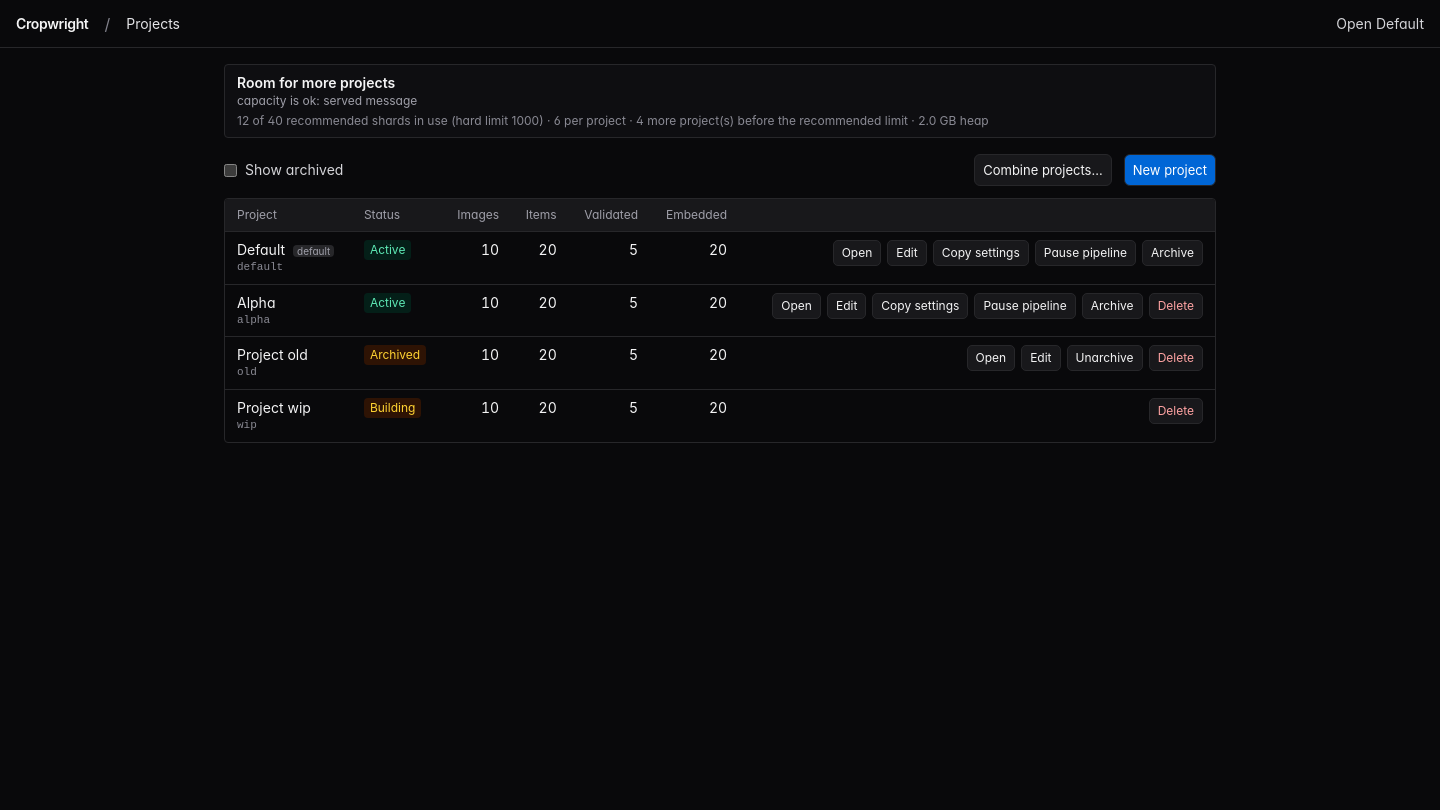
it: create › renders a served refusal verbatim in the dialog
Step 1. Click the button "New project" → [1170, 170], box top-left (1124, 154), bottom-right (1216, 186)
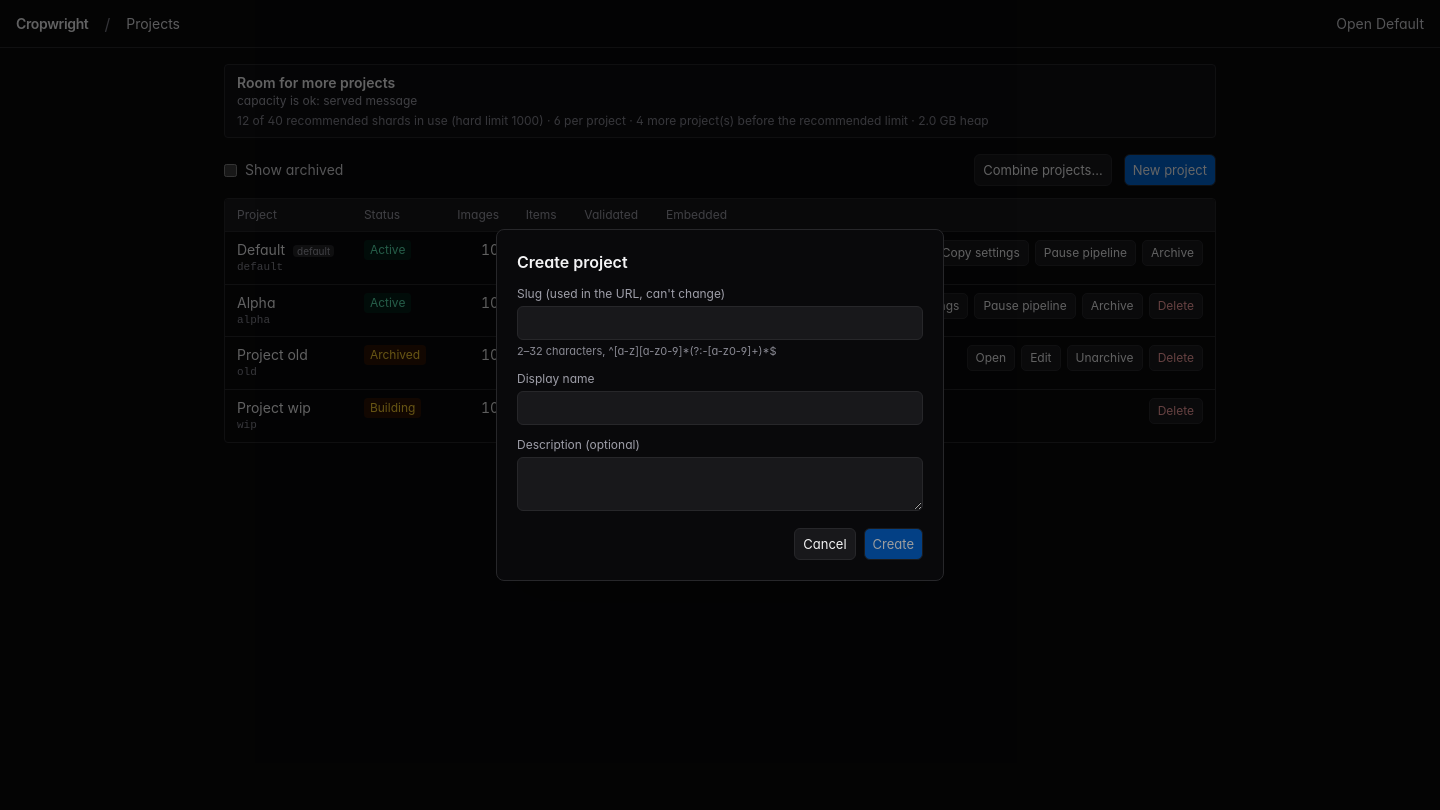
Step 2. Type "alpha" into the 1st field → [720, 323], box top-left (517, 306), bottom-right (923, 340)
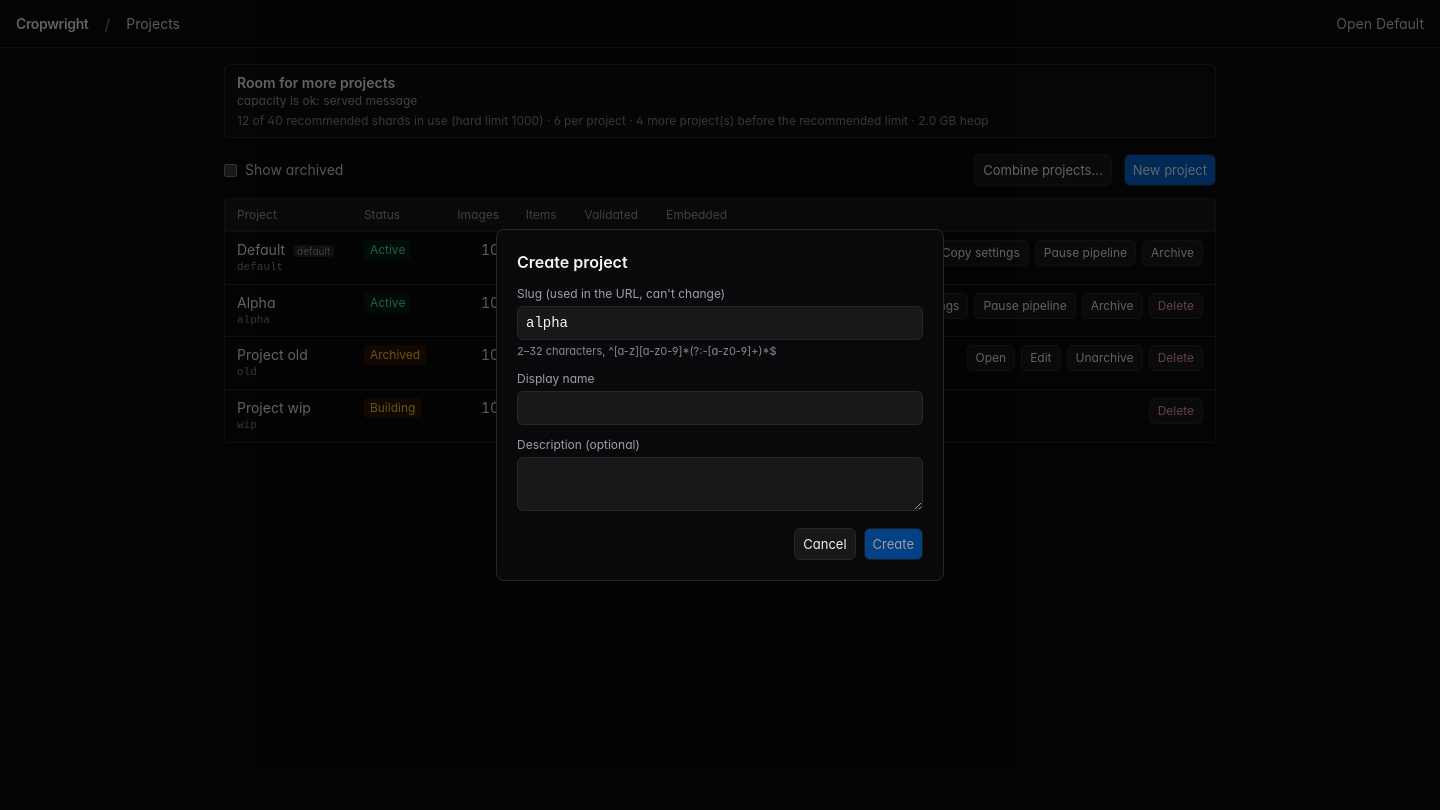
Step 3. Type "Alpha again" into the field labelled "Display name" → [720, 408], box top-left (517, 391), bottom-right (923, 425)
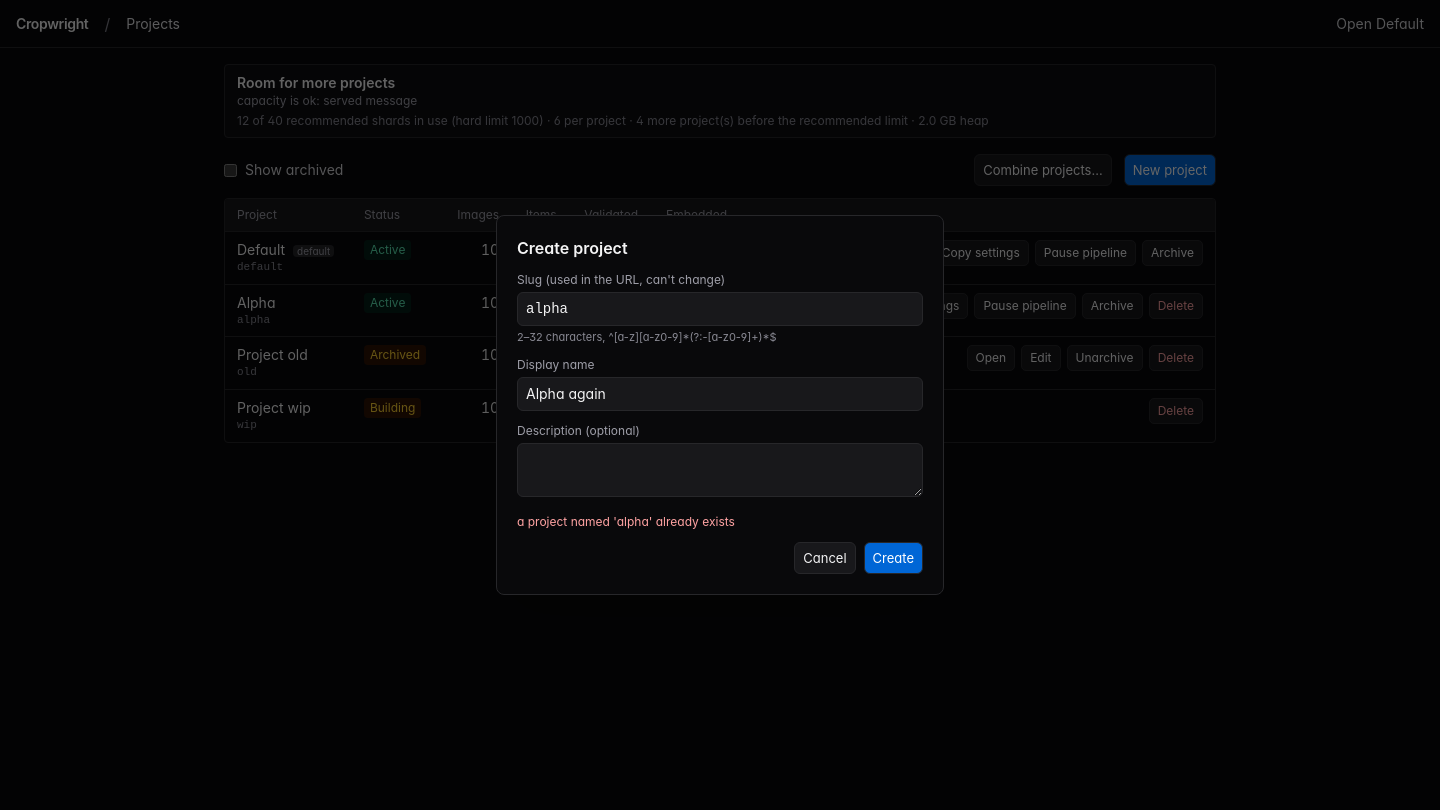
expect the text "a project named 'alpha' already exists" is shown: met, box top-left (517, 514), bottom-right (735, 529)
